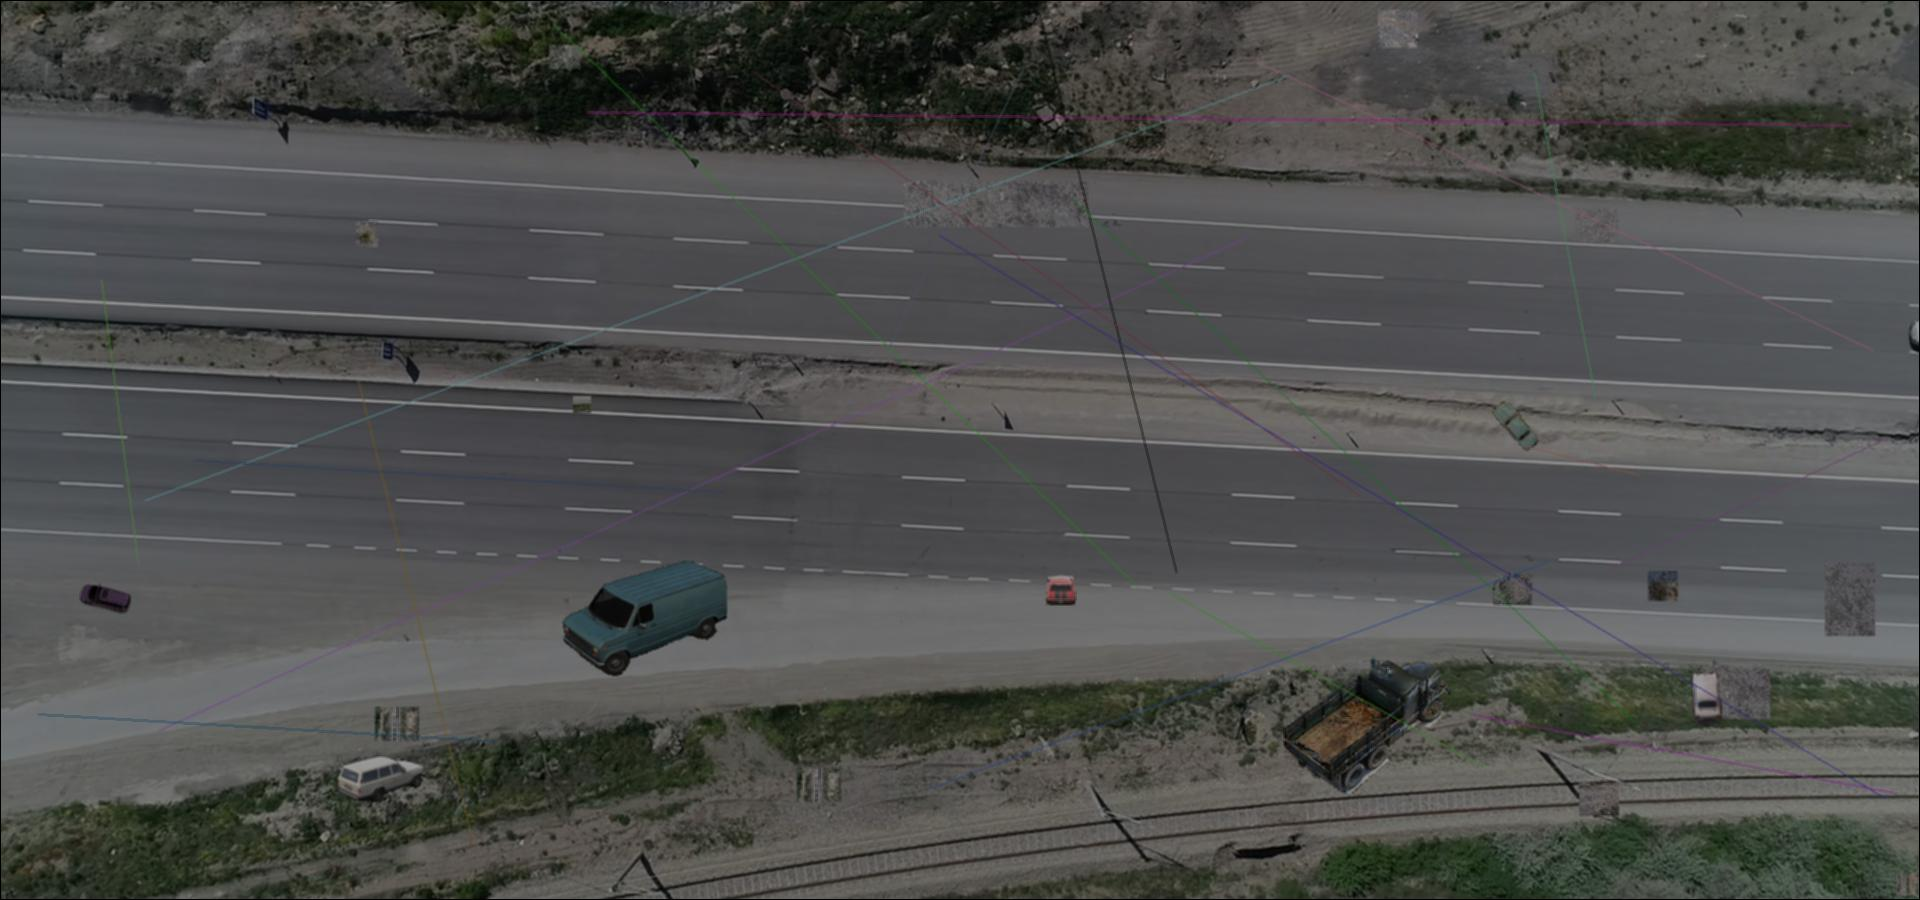arac: (1284, 650, 1452, 793), (560, 558, 727, 676), (337, 756, 427, 803), (1491, 398, 1540, 451), (1689, 671, 1727, 726), (80, 582, 132, 617), (1042, 573, 1078, 605)
